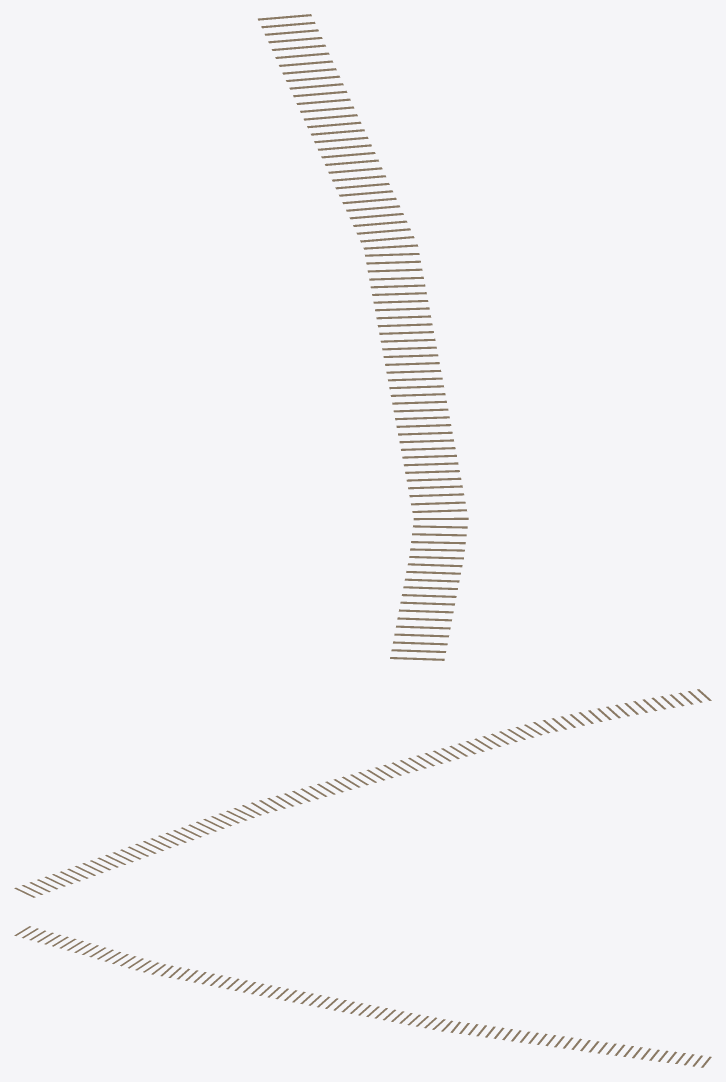
The model's file is c_1632_17829_rail_sleeper.glb.
3 views of the same model, one above another, from view 1: azimuth 30°, elevation 25°; view 2: azimuth 150°, elevation 25°; view 3: azimuth 270°, elevation 25° (orthographic). The views are drawn at different scales.
Parts seen in each view (by area): view 1: geometry_0; view 2: geometry_0; view 3: geometry_0.
Boxes of the visible parts, x1=… form: geometry_0: x1=258, y1=14, x2=468, y2=660; geometry_0: x1=14, y1=689, x2=711, y2=897; geometry_0: x1=14, y1=926, x2=711, y2=1067.
Size of the model in its own units: 30.1 by 0.3258 by 61.17.
